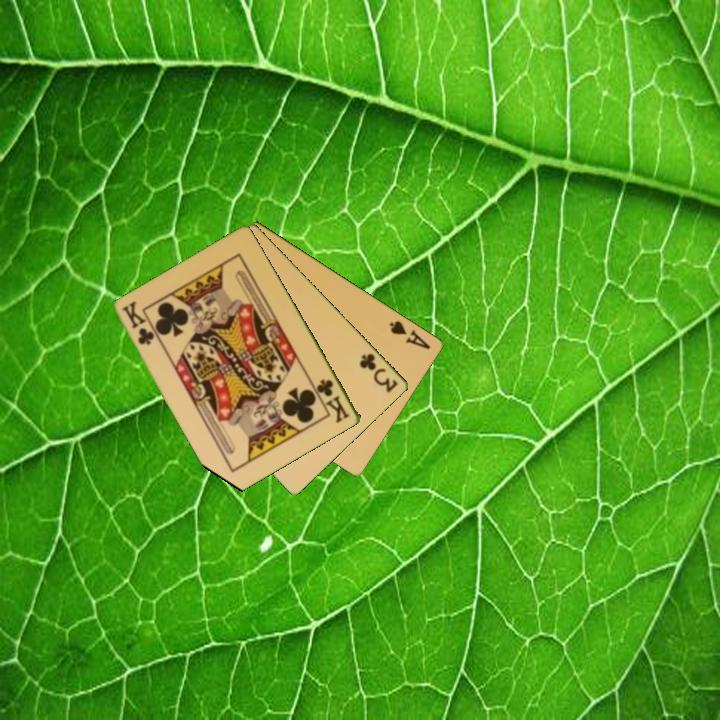3c: (356, 349, 401, 396)
As: (386, 317, 434, 352)
Kc: (313, 375, 353, 426), (119, 298, 157, 348)
